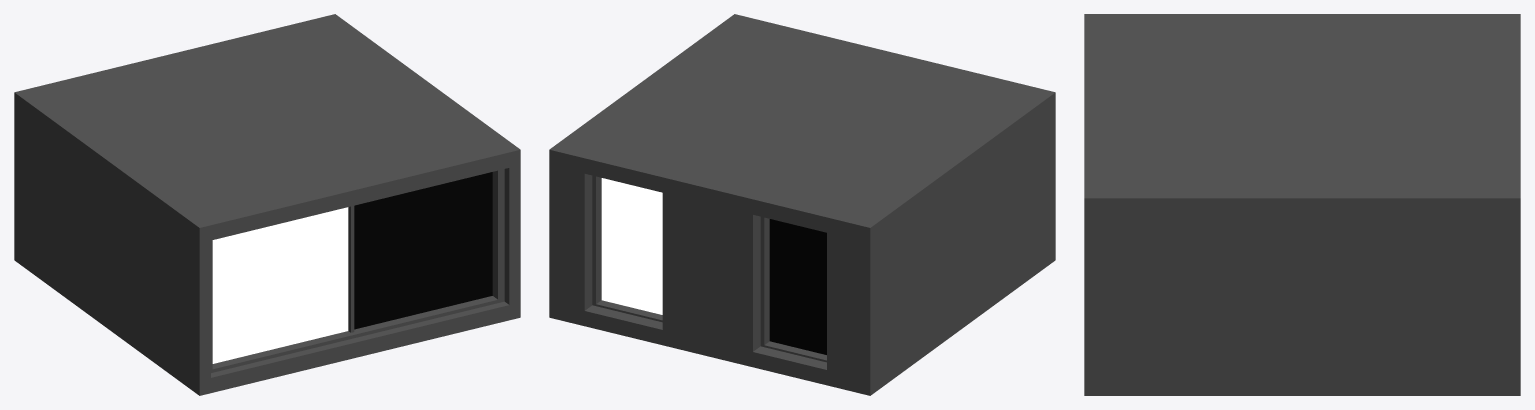
Rendered from immeuble5Milieu.fbx.
The picture shows the model from 3 angles, left to right: view 1: azimuth 30°, elevation 25°; view 2: azimuth 150°, elevation 25°; view 3: azimuth 270°, elevation 25°; orthographic projection. The views are drawn at different scales.
Visible parts, largest first — view 1: Cube.013; view 2: Cube.013; view 3: Cube.013.
Boxes of the visible parts, x1,y1,x2,y2 form: Cube.013: [14, 14, 520, 395]; Cube.013: [549, 14, 1055, 395]; Cube.013: [1084, 14, 1520, 395].
Size of the model in its own units: 2000 by 1000 by 2000.
